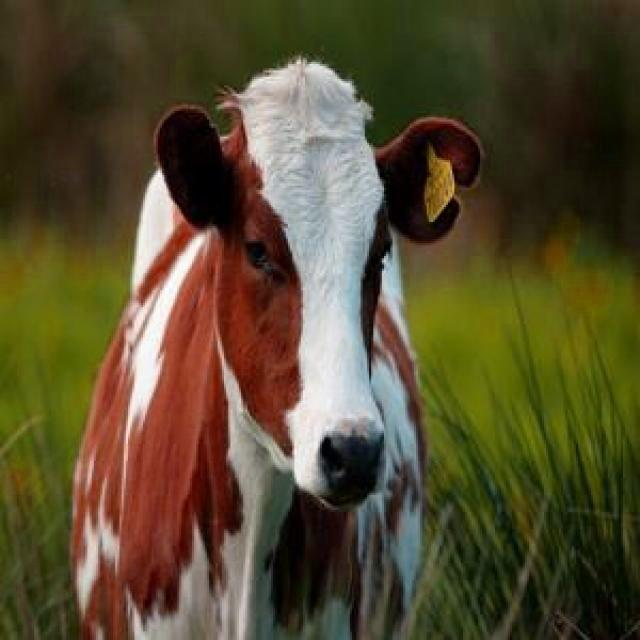cow: (72, 60, 480, 640)
